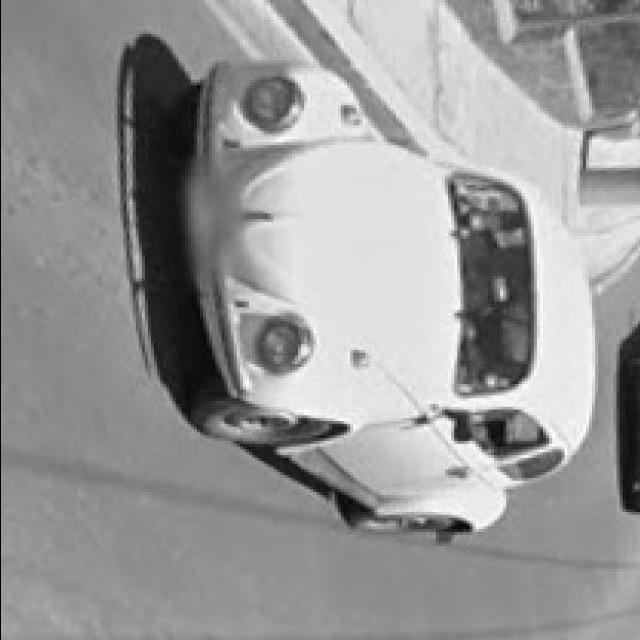car: (162, 71, 592, 532)
